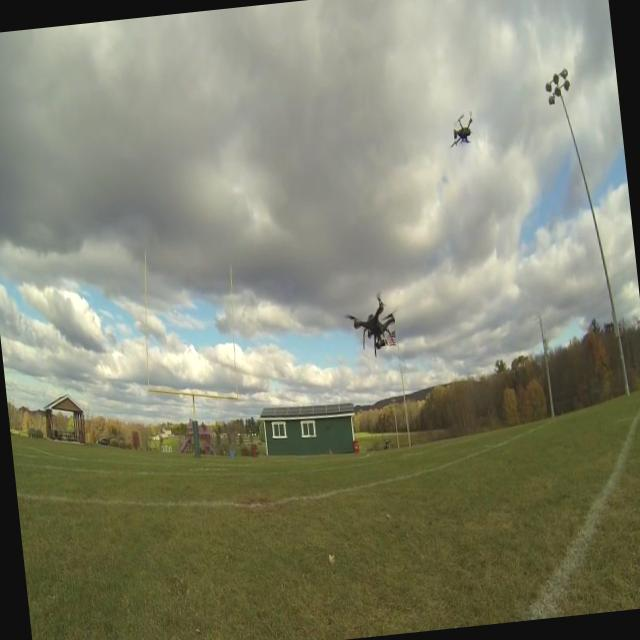drone: (342, 288, 404, 365), (446, 110, 479, 153)
